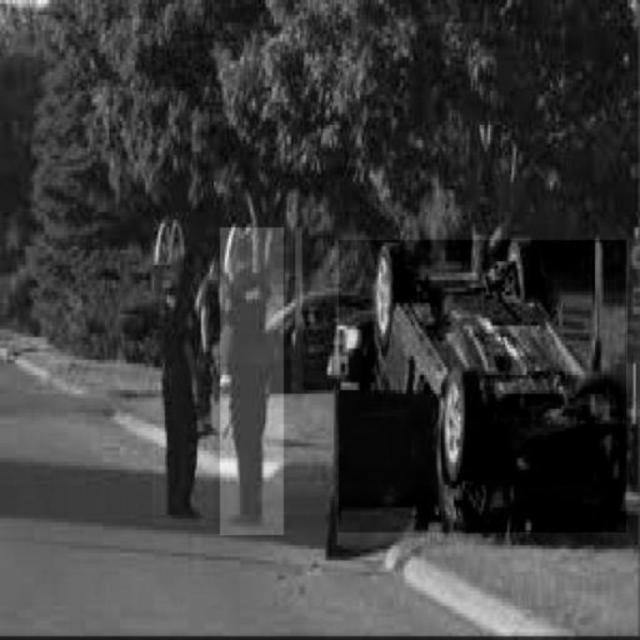accident: (339, 240, 627, 532)
person: (220, 227, 284, 535), (153, 213, 214, 525)
